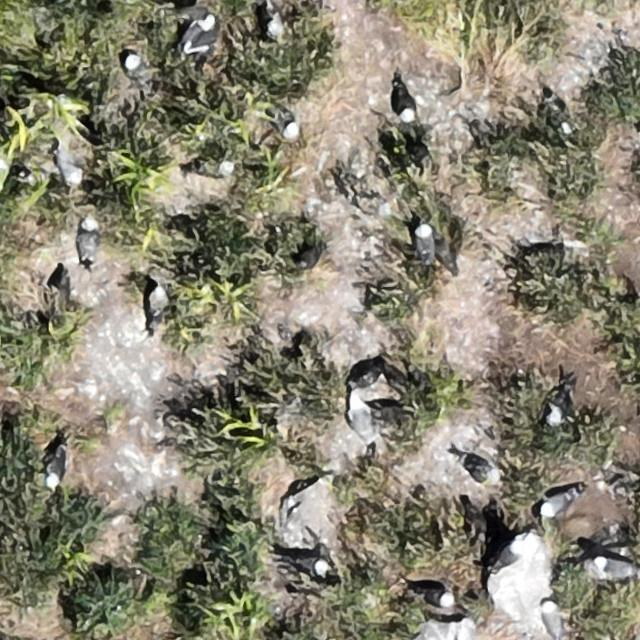umineko: (348, 392, 376, 451), (489, 541, 529, 572), (185, 156, 235, 178), (184, 17, 216, 51), (594, 557, 634, 581), (285, 555, 325, 575), (462, 459, 498, 481), (542, 492, 572, 518), (57, 153, 81, 184), (46, 451, 66, 488), (79, 221, 97, 261), (542, 603, 563, 637), (397, 86, 416, 121), (414, 224, 433, 258), (420, 588, 454, 606), (149, 286, 167, 320), (124, 53, 147, 78), (274, 116, 296, 139), (266, 12, 282, 38)
